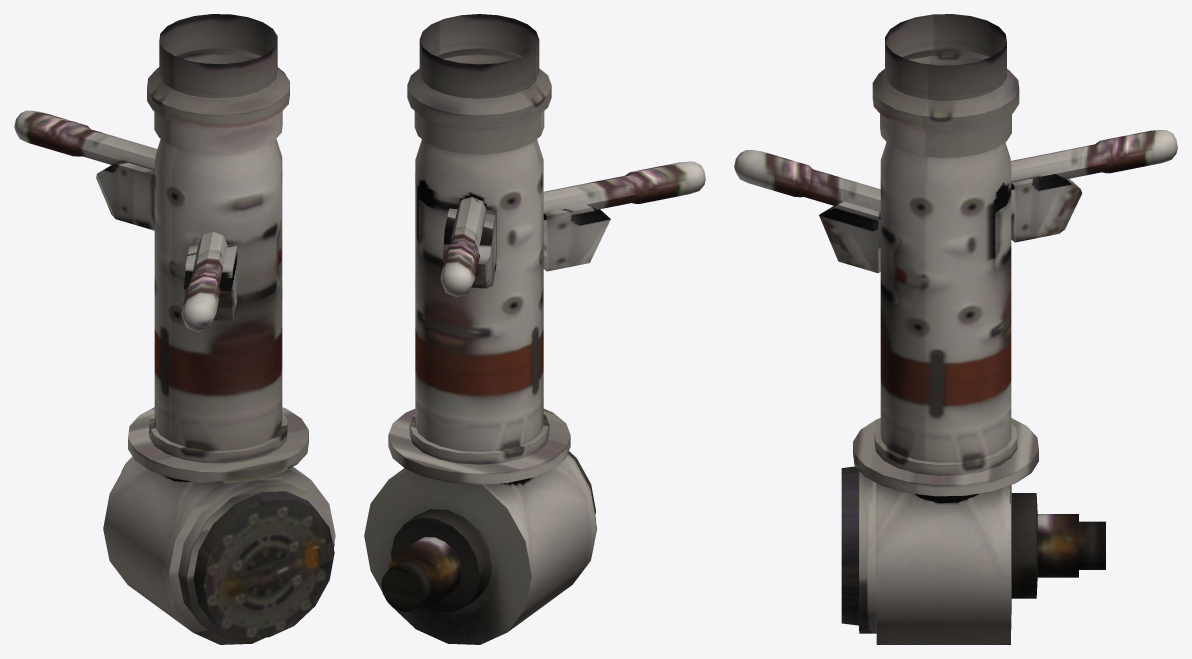
Rendered from mast_p_fixed.dae.
3 renders of one model, left to right at view 1: azimuth 30°, elevation 25°; view 2: azimuth 150°, elevation 25°; view 3: azimuth 270°, elevation 25°, orthographic. The views are drawn at different scales.
Visible parts, largest first — view 1: mast_01, REMS_01; view 2: mast_01, REMS_01; view 3: mast_01, REMS_01.
Boxes of the visible parts, left/top/right/bottom form: mast_01: left=103, top=14, right=335, bottom=644; REMS_01: left=14, top=110, right=237, bottom=332; mast_01: left=364, top=14, right=597, bottom=644; REMS_01: left=440, top=161, right=705, bottom=297; mast_01: left=841, top=14, right=1105, bottom=644; REMS_01: left=734, top=130, right=1177, bottom=273.
Bounding box in the file's own units: 0.2015 × 0.3547 × 0.5256.
Materials: 1 (1 with a texture image).
